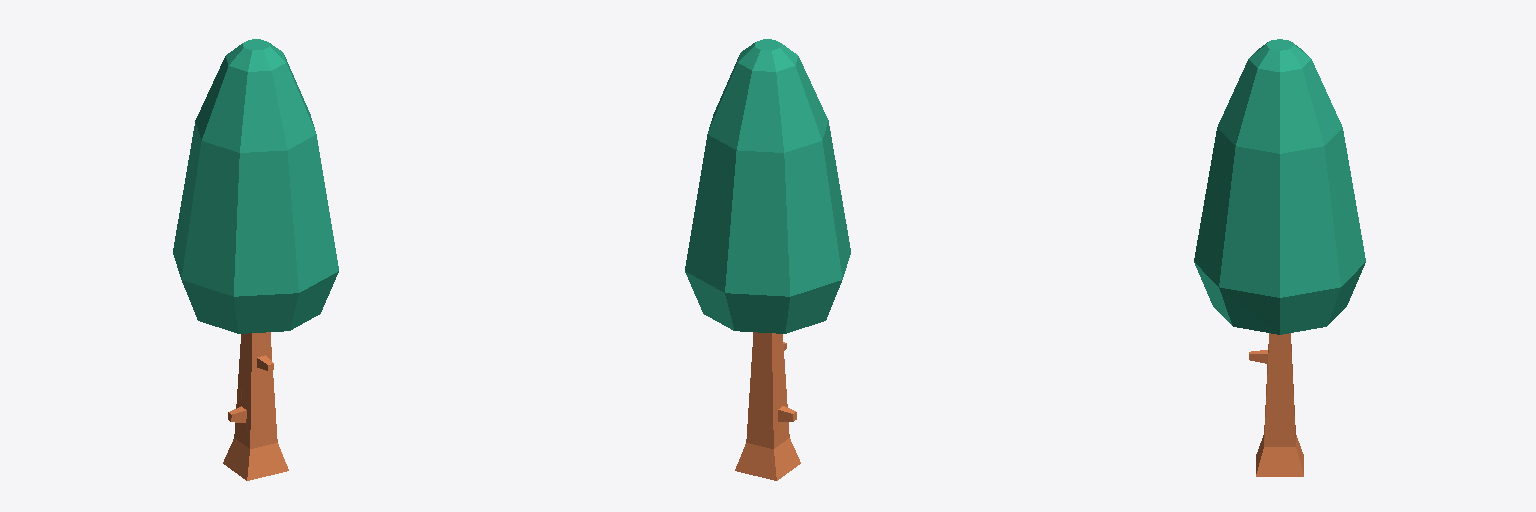
The model's file is treeHighRound.obj.
The picture shows the model from 3 angles: view 1: azimuth 30°, elevation 25°; view 2: azimuth 150°, elevation 25°; view 3: azimuth 270°, elevation 25°; orthographic projection.
Visible parts, largest first — view 1: treeHighRound; view 2: treeHighRound; view 3: treeHighRound.
Part boxes in pixels (bbox=[...]): treeHighRound: bbox=[173, 39, 338, 480]; treeHighRound: bbox=[685, 39, 850, 480]; treeHighRound: bbox=[1194, 39, 1365, 476].
Bounding box in the file's own units: 1.02 × 2.75 × 1.02.